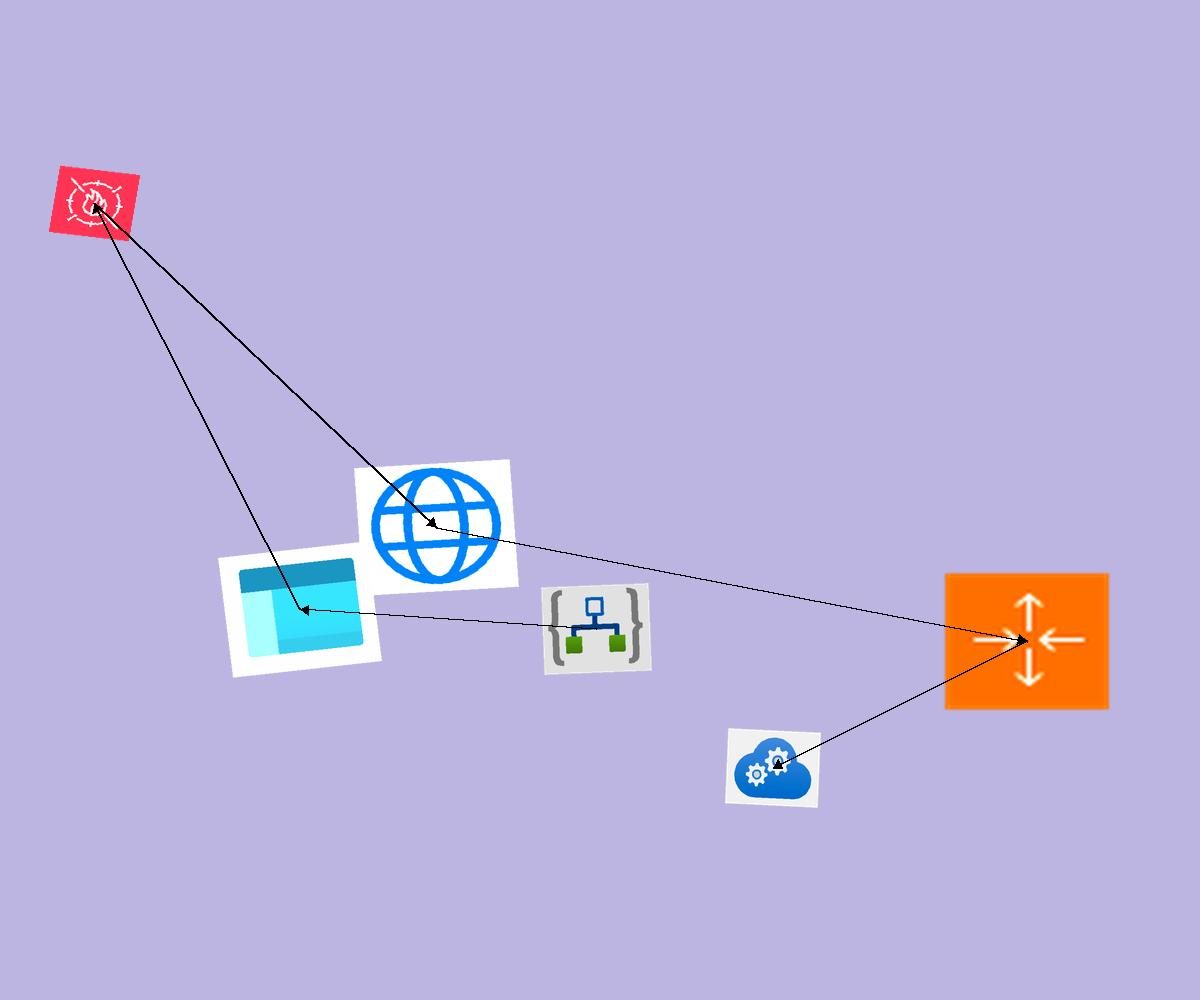AWS-Scaling-group: (941, 570, 1113, 713)
AWS-WAF: (48, 165, 141, 242)
Azure_cloud_services: (725, 728, 821, 808)
Azure_http: (354, 459, 519, 596)
Azure_integration-204-Logic-Apps: (541, 583, 652, 675)
Azure_management-portal: (218, 541, 382, 678)
